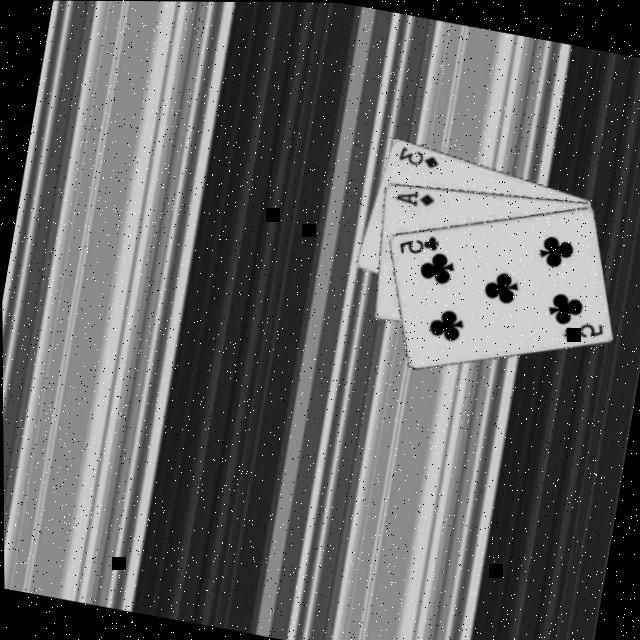3D: (395, 140, 444, 170)
5C: (394, 224, 442, 259), (558, 312, 606, 346)
AD: (392, 182, 438, 210)
